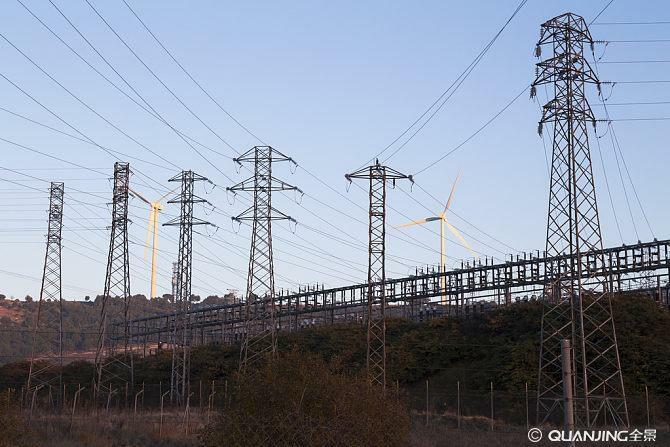power_tower: (529, 11, 638, 435), (220, 143, 302, 327), (336, 156, 398, 393), (90, 158, 144, 392), (23, 176, 72, 393), (163, 171, 209, 396)
